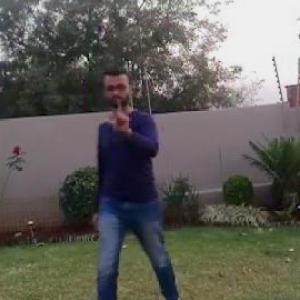land_hand: (105, 94, 134, 134)
